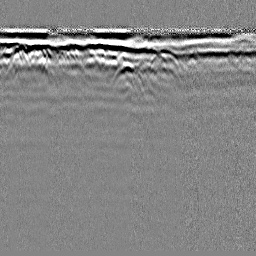cavity: (111, 64, 143, 83)
